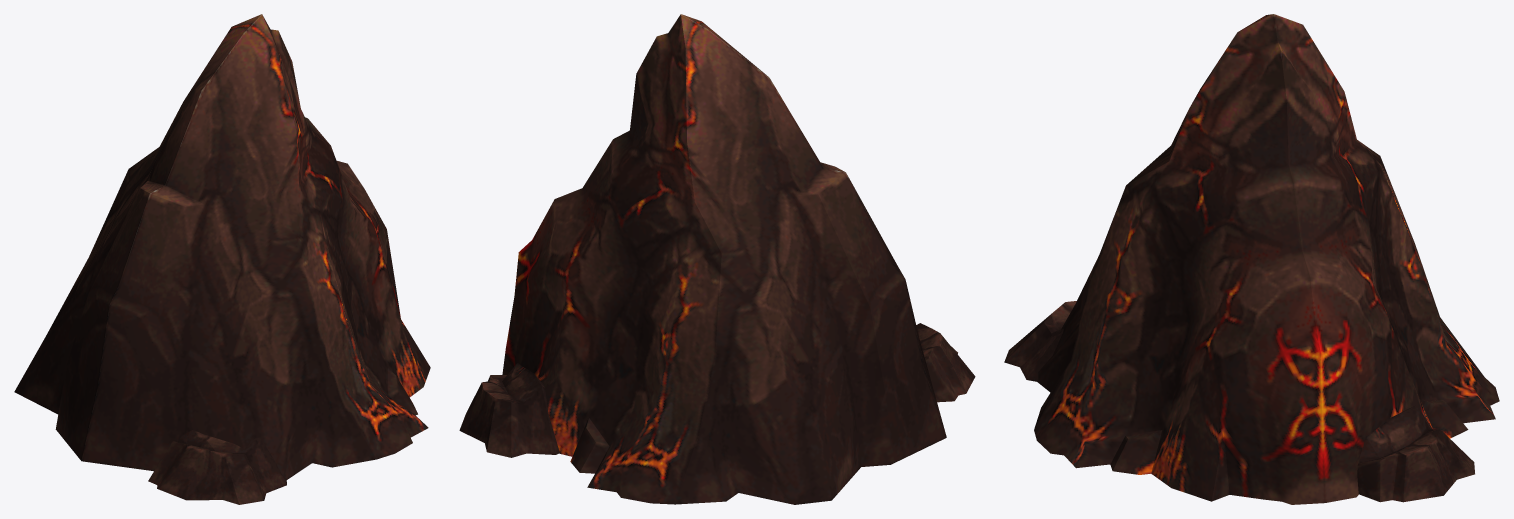
File: 6002_Item_shtou_6.FBX
3 views of the same model, side by side, from view 1: azimuth 30°, elevation 25°; view 2: azimuth 150°, elevation 25°; view 3: azimuth 270°, elevation 25° (orthographic). The views are drawn at different scales.
Parts seen in each view (by area): view 1: 6002_Item_shtou_6; view 2: 6002_Item_shtou_6; view 3: 6002_Item_shtou_6.
Part boxes in pixels (bbox=[...]): 6002_Item_shtou_6: bbox=[14, 14, 430, 504]; 6002_Item_shtou_6: bbox=[459, 14, 975, 504]; 6002_Item_shtou_6: bbox=[1004, 14, 1499, 504].
Bounding box in the file's own units: 4634 × 4526 × 4914.
